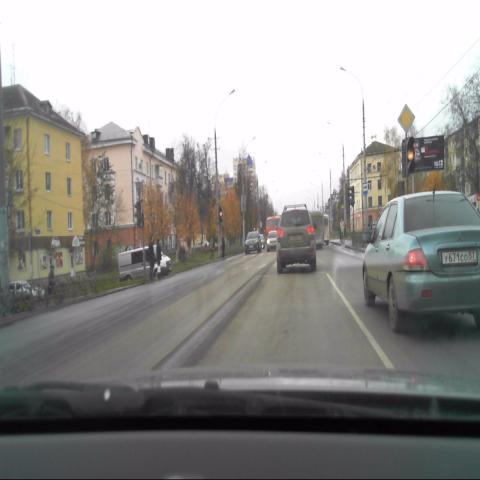2_1: (398, 102, 416, 133)
